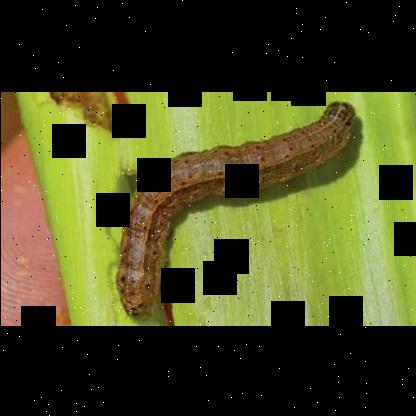oruga: (97, 130, 389, 272)
